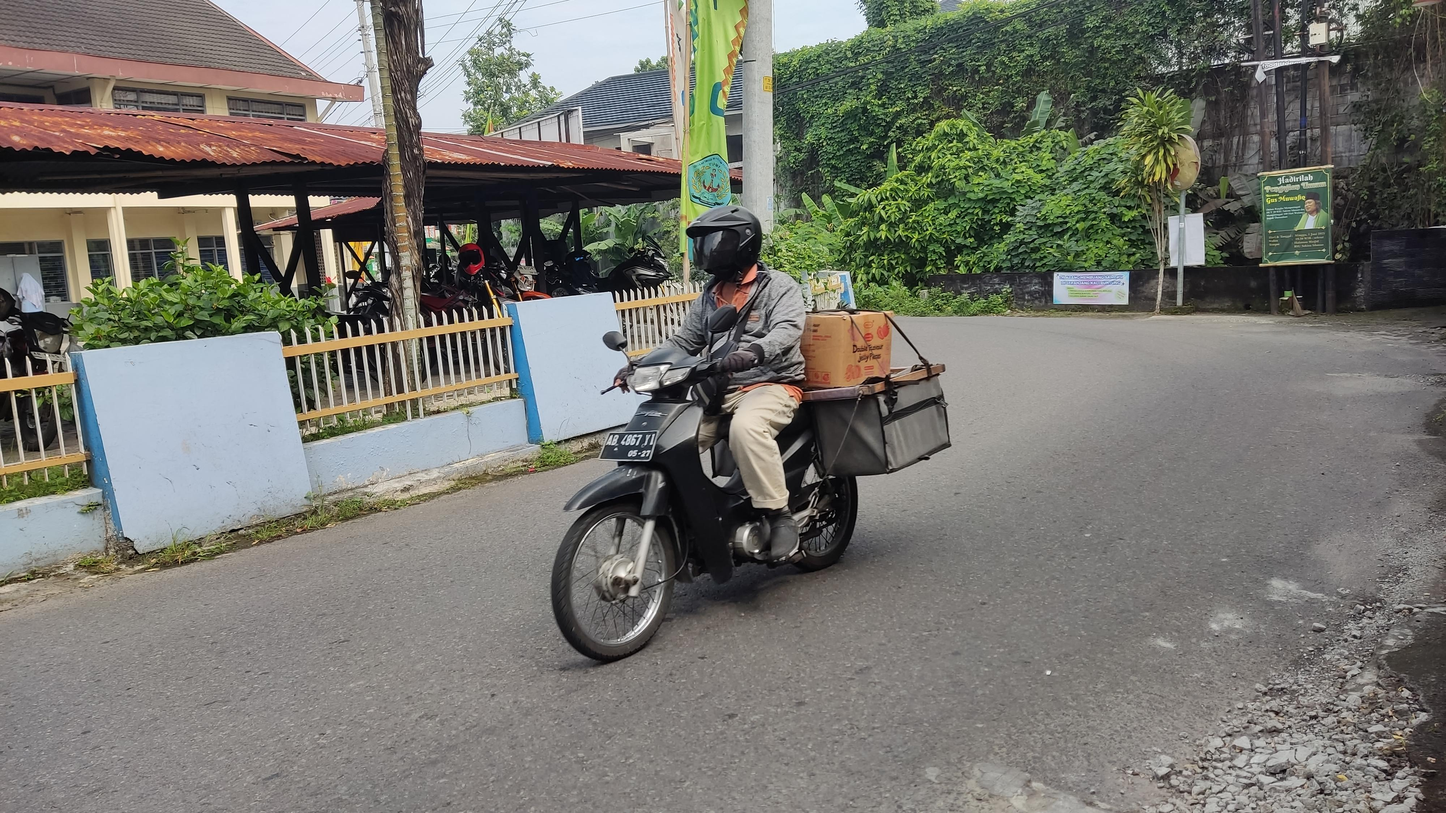helm: (682, 199, 765, 287)
riding: (536, 189, 960, 668)
